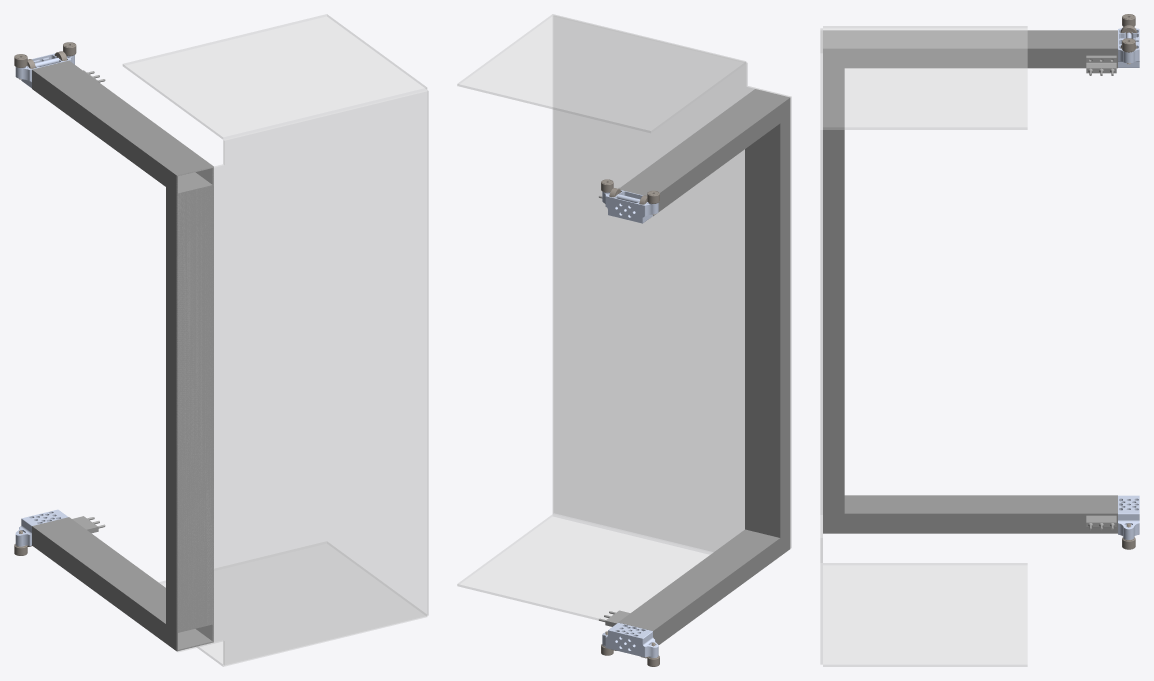
3 renders of one model, left to right at view 1: azimuth 30°, elevation 25°; view 2: azimuth 150°, elevation 25°; view 3: azimuth 270°, elevation 25°, orthographic. The views are drawn at different scales.
Parts seen in each view (by area): view 1: Part 6.002, Tube 2"x1"x22.5", Part 10, Part 10.001, Tube 2"x1"x13.5".001, Tube 2"x1"x13.5", WCP-1810-001 Rev2.001; view 2: Part 6.002, Part 10, Tube 2"x1"x22.5", Part 10.001, Tube 2"x1"x13.5".001, Tube 2"x1"x13.5", WCP-1810-001 Rev2.001, WCP-1810-001 Rev2; view 3: Part 10, Part 10.001, Tube 2"x1"x13.5".001, Tube 2"x1"x13.5", Tube 2"x1"x22.5", Part 6.002, WCP-1810-001 Rev2.001, #25 Chain Attachment Part, WCP-1810-001 Rev2.
Part boxes in pixels (x1,y1,x2,y2): Part 6.002: (177, 90, 428, 665); Tube 2"x1"x22.5": (166, 186, 213, 631); Part 10: (123, 14, 426, 139); Part 10.001: (159, 541, 426, 666); Tube 2"x1"x13.5".001: (32, 60, 213, 194); Tube 2"x1"x13.5": (32, 517, 213, 651); WCP-1810-001 Rev2.001: (15, 509, 68, 545); Part 6.002: (553, 16, 791, 552); Part 10: (457, 14, 745, 132); Tube 2"x1"x22.5": (745, 116, 790, 537); Part 10.001: (457, 514, 711, 620); Tube 2"x1"x13.5".001: (619, 89, 790, 216); Tube 2"x1"x13.5": (618, 529, 790, 644); WCP-1810-001 Rev2.001: (602, 622, 658, 657); WCP-1810-001 Rev2: (602, 190, 658, 223); Part 10: (823, 26, 1027, 129); Part 10.001: (823, 563, 1027, 666); Tube 2"x1"x13.5".001: (823, 30, 1117, 68); Tube 2"x1"x13.5": (823, 495, 1117, 533); Tube 2"x1"x22.5": (823, 68, 844, 513); Part 6.002: (820, 28, 822, 664); WCP-1810-001 Rev2.001: (1118, 495, 1139, 538); #25 Chain Attachment Part: (1086, 55, 1116, 75); WCP-1810-001 Rev2: (1118, 27, 1139, 67).
Size of the model in its own units: 0.3588 by 0.6921 by 0.3715.
